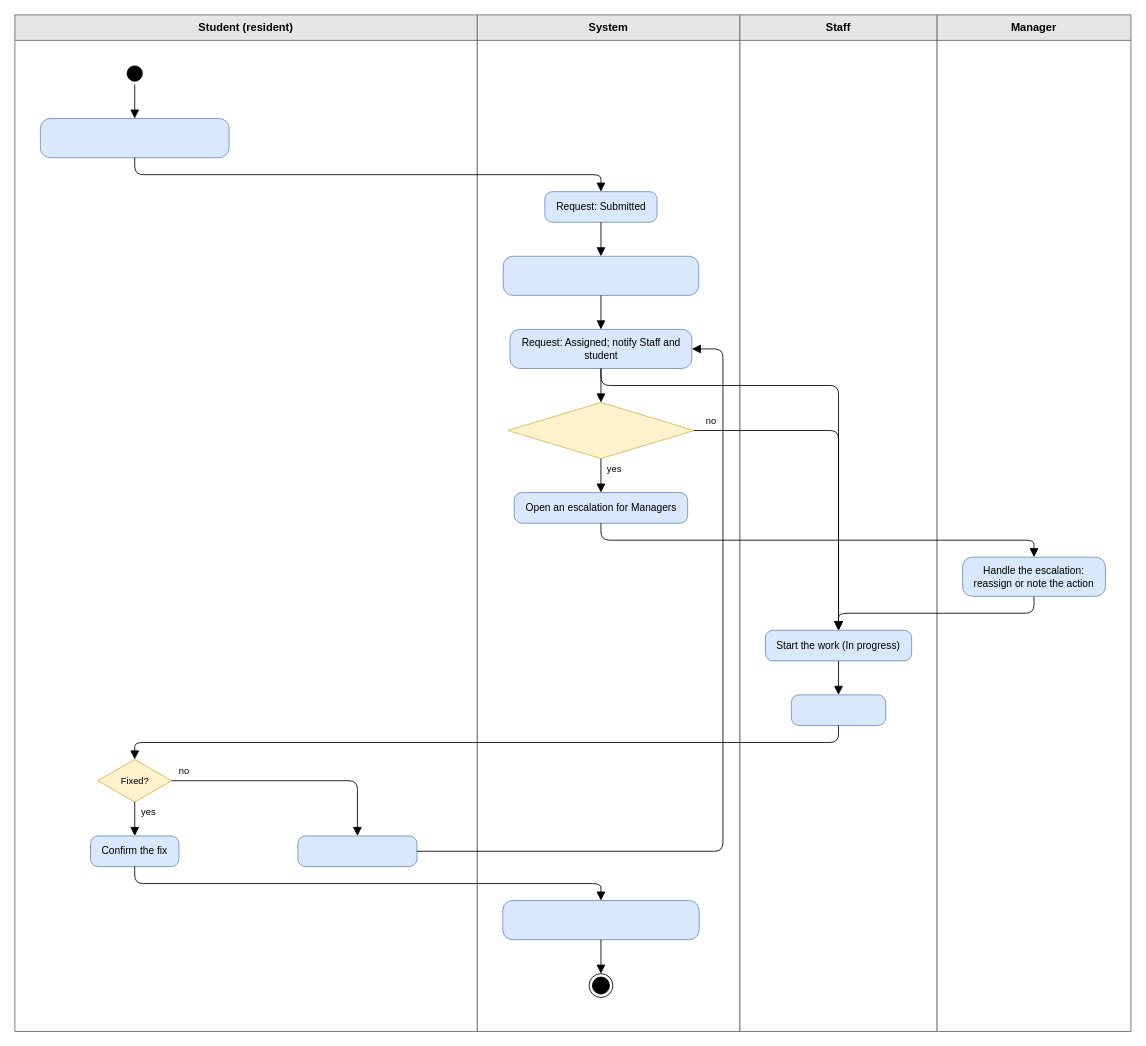
Some shapes in this 1146 by 1046 pixel diagram are drawn without their labels. Each missing label, with the centre of its shape:
"Every 15 min: past the deadline or unassigned too long?" belongs at point 600,430.
"Mark it resolved" belongs at point 838,709.
"Reopen: not fixed yet" belongs at point 357,851.
"Report a problem: category, location, urgency, photos, furniture item" belongs at point 134,138.
"Request: Closed; furniture item history updated" belongs at point 600,920.
"Routing rule picks Staff; SLA deadline = urgent or normal timer" belongs at point 600,275.
